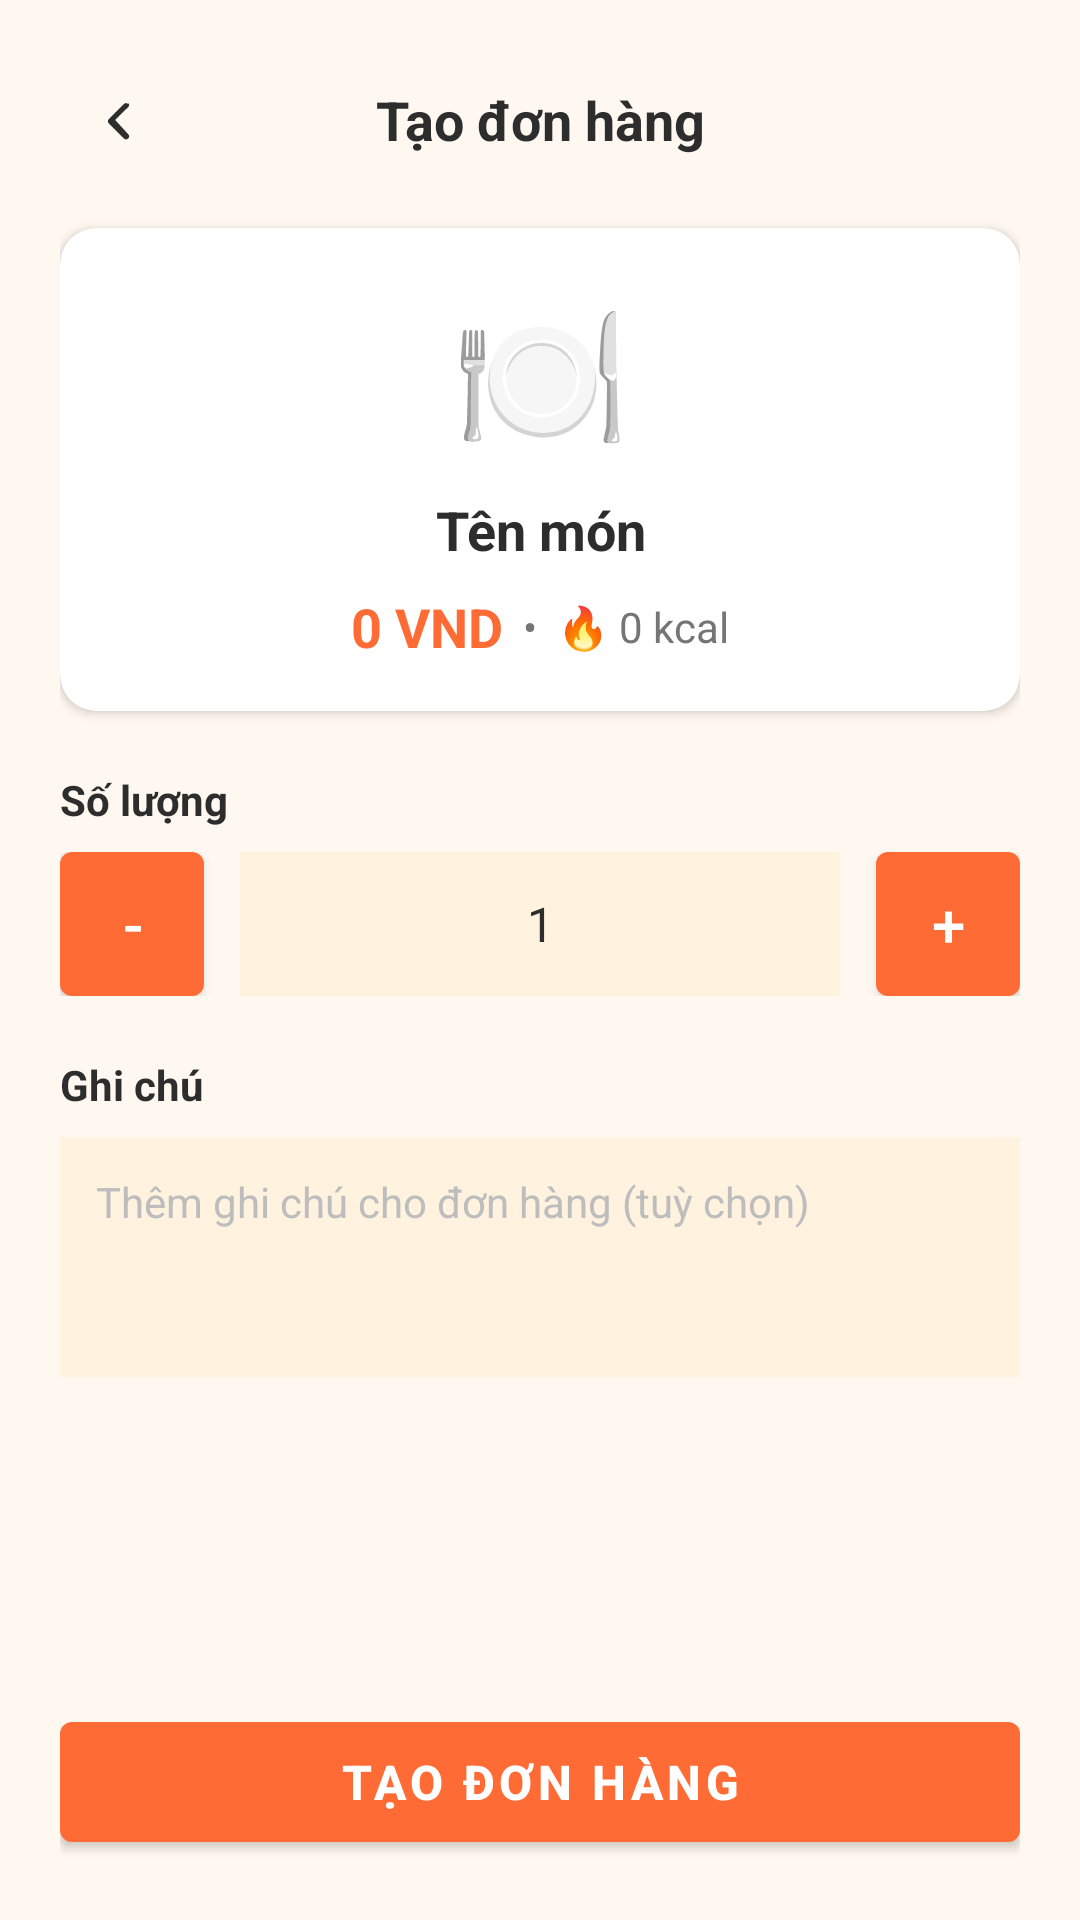

Locate icon controls on the screen. Image size 1080px x 1920px, boxes as (x1, y1, x2, y2).
Quay lại: (107, 103, 130, 140)
